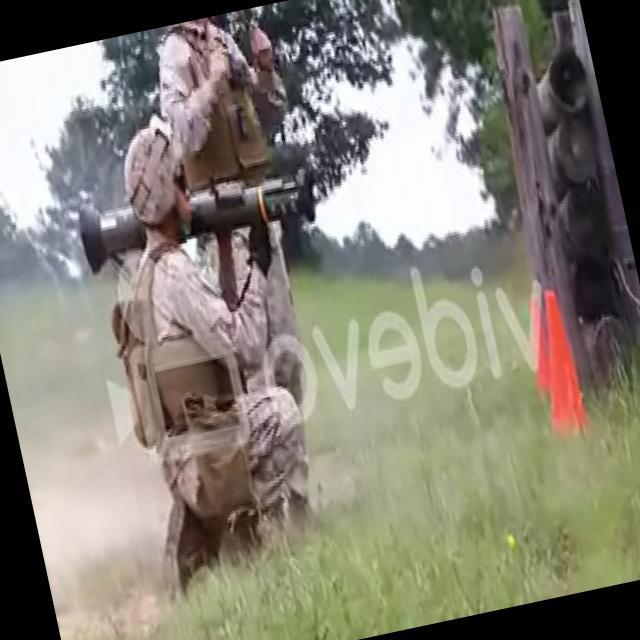rocket: (75, 166, 322, 276)
